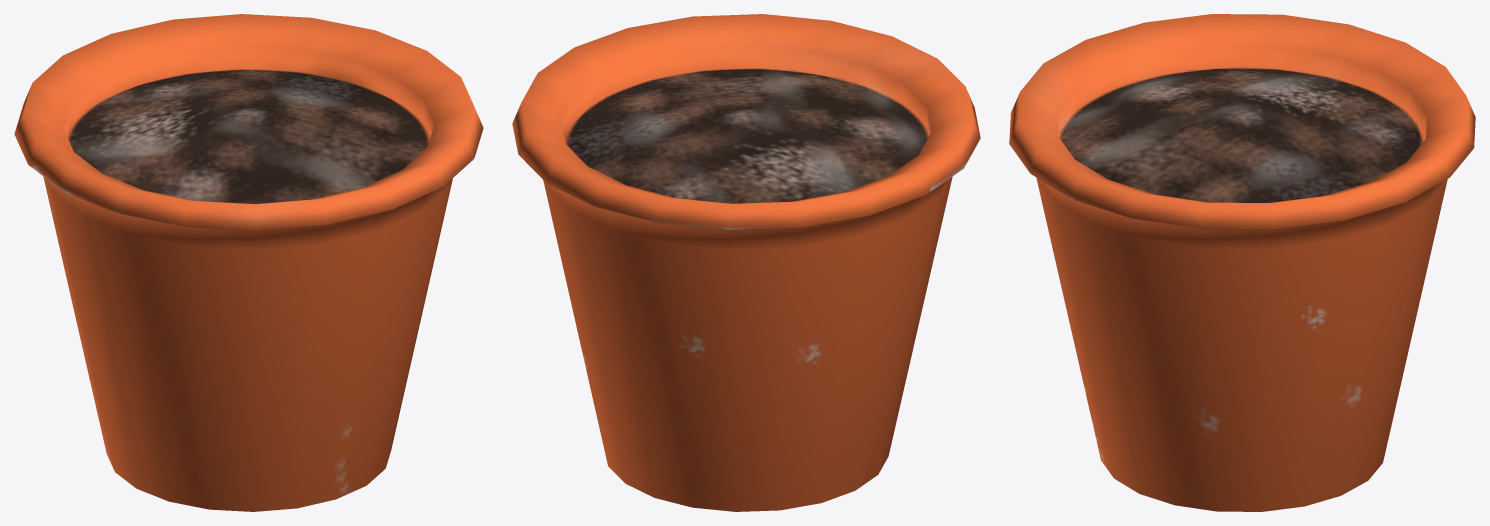
The model's file is Flower_Pot.fbx.
The picture shows the model from 3 angles, left to right: view 1: azimuth 30°, elevation 25°; view 2: azimuth 150°, elevation 25°; view 3: azimuth 270°, elevation 25°; orthographic projection.
Visible parts, largest first — view 1: polySurface47; view 2: polySurface47; view 3: polySurface47.
Part boxes in pixels (x1,y1,x2,y2): polySurface47: [14, 14, 483, 511]; polySurface47: [512, 14, 980, 511]; polySurface47: [1009, 14, 1475, 511].
Size of the model in its own units: 36.3 by 29.51 by 36.3.
